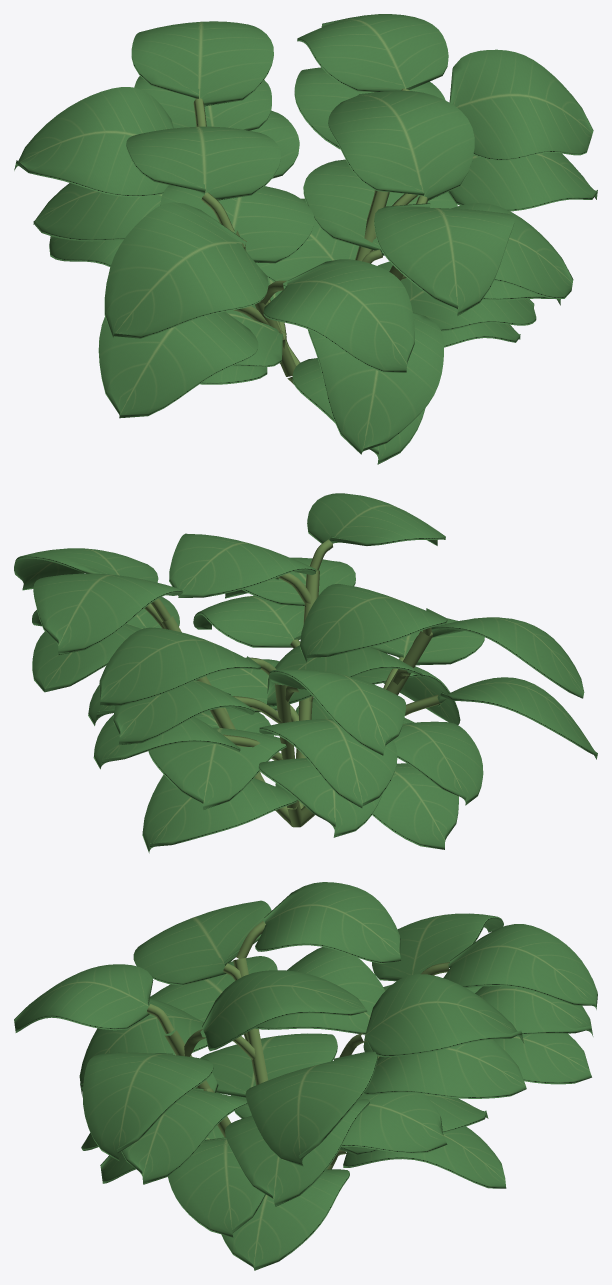
The model's file is peperomia-stage-6.glb.
3 renders of one model, top to bottom at view 1: azimuth 30°, elevation 25°; view 2: azimuth 150°, elevation 25°; view 3: azimuth 270°, elevation 25°, orthographic. The views are drawn at different scales.
Visible parts, largest first — view 1: Leaf_23, Leaf_20, Leaf_21, Leaf_15, Leaf_22, Leaf_24, Leaf_11, Leaf_8, Leaf_26, Leaf_25, Leaf_27, Leaf_13 (+16 smaller); view 2: Leaf_25, Leaf_26, Leaf_27, PlantBranches, Leaf_20, Leaf_14, Leaf_5, Leaf_2, Leaf_22, Leaf_24, Leaf_7, Leaf_3 (+16 smaller); view 3: Leaf_16, Leaf_25, Leaf_21, Leaf_27, Leaf_26, Leaf_17, Leaf_20, Leaf_23, Leaf_24, Leaf_4, Leaf_1, Leaf_12 (+13 smaller).
Boxes of the visible parts, left/top/right/bottom form: Leaf_23: left=104, top=202, right=268, bottom=338; Leaf_20: left=328, top=90, right=474, bottom=200; Leaf_21: left=449, top=49, right=593, bottom=160; Leaf_15: left=263, top=259, right=414, bottom=372; Leaf_22: left=14, top=87, right=173, bottom=196; Leaf_24: left=374, top=203, right=514, bottom=315; Leaf_11: left=98, top=311, right=258, bottom=418; Leaf_8: left=307, top=312, right=443, bottom=454; Leaf_26: left=131, top=21, right=273, bottom=106; Leaf_25: left=297, top=14, right=448, bottom=92; Leaf_27: left=126, top=126, right=280, bottom=200; Leaf_13: left=448, top=152, right=597, bottom=211; Leaf_25: left=33, top=573, right=182, bottom=655; Leaf_26: left=99, top=627, right=260, bottom=705; Leaf_27: left=300, top=584, right=447, bottom=663; PlantBranches: left=144, top=539, right=441, bottom=827; Leaf_20: left=169, top=533, right=316, bottom=597; Leaf_14: left=259, top=719, right=397, bottom=807; Leaf_5: left=148, top=727, right=286, bottom=809; Leaf_2: left=142, top=774, right=297, bottom=853; Leaf_22: left=268, top=669, right=405, bottom=755; Leaf_24: left=307, top=493, right=445, bottom=545; Leaf_7: left=393, top=721, right=483, bottom=805; Leaf_3: left=372, top=763, right=458, bottom=849; Leaf_16: left=82, top=1052, right=213, bottom=1160; Leaf_25: left=364, top=974, right=523, bottom=1057; Leaf_21: left=245, top=1051, right=377, bottom=1166; Leaf_27: left=255, top=882, right=400, bottom=963; Leaf_26: left=443, top=924, right=597, bottom=1009; Leaf_17: left=363, top=1039, right=526, bottom=1098; Leaf_20: left=202, top=970, right=367, bottom=1051; Leaf_23: left=133, top=900, right=271, bottom=985; Leaf_24: left=14, top=964, right=153, bottom=1032; Leaf_4: left=168, top=1137, right=265, bottom=1237; Leaf_1: left=221, top=1169, right=349, bottom=1270; Leaf_12: left=121, top=1088, right=247, bottom=1184.
Size of the model in its own units: 2.08 by 1.05 by 2.05.
Materials: 2 (1 with a texture image).
